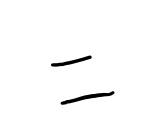eqv: (51, 55, 114, 105)
